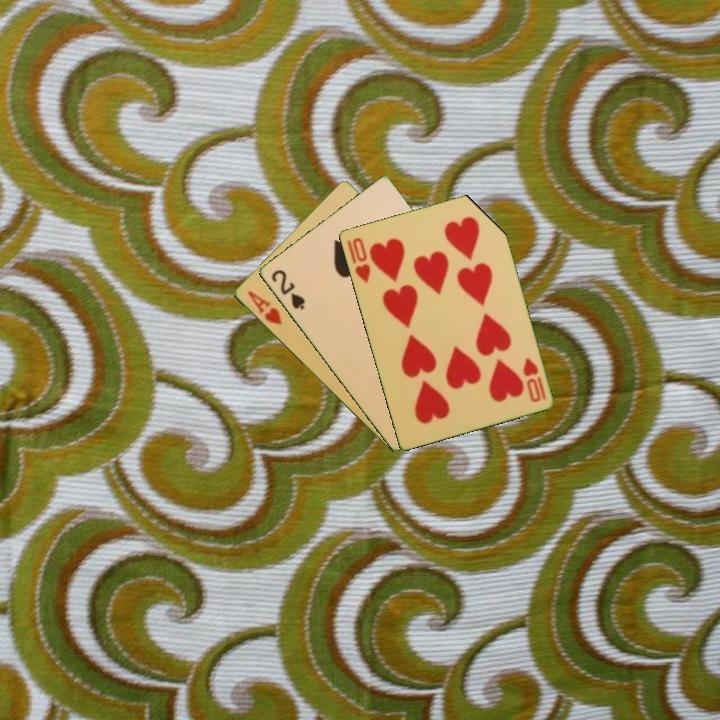10h: (343, 234, 373, 286), (519, 354, 549, 405)
2s: (267, 266, 308, 313)
Ah: (244, 287, 284, 328)
